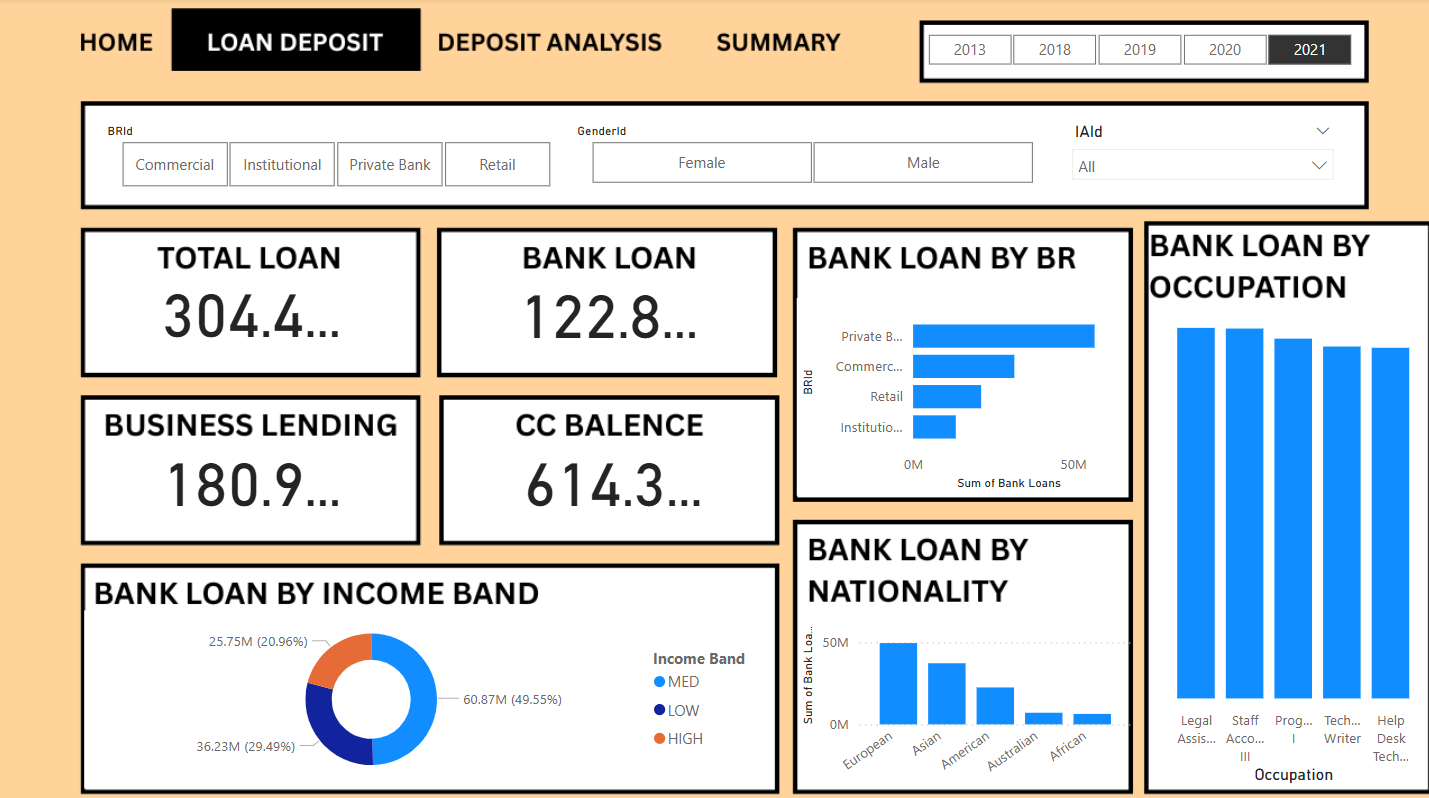

The dashboard page shown, as its layout file describes it:
{"tool":"powerbi","page":{"name":"LOAN DEPOSITE","canvas":[1280,720],"ordinal":1},"visuals":[{"type":"actionButton","box":[50.6,16.1,100,40.2],"z":0},{"type":"actionButton","box":[383.9,16.1,213.8,40.2],"z":1000},{"type":"actionButton","box":[632.2,16.1,128.7,40.2],"z":2000},{"type":"card","fields":{"Values":["Banking_Clients.Total Loan"]},"box":[140.2,224.1,171.3,104.6],"z":3000},{"type":"card","fields":{"Values":["Sum(Banking_Clients.Bank Loans)"]},"box":[455.2,202.3,177,149.4],"z":4000},{"type":"card","fields":{"Values":["Sum(Banking_Clients.Business Lending)"]},"box":[140.2,351.7,171.3,149.4],"z":5000},{"type":"card","fields":{"Values":["Sum(Banking_Clients.Credit Card Balance)"]},"box":[455.2,351.7,185.1,149.4],"z":6000},{"type":"donutChart","fields":{"Category":["Banking_Clients.Income Band"],"Y":["Sum(Banking_Clients.Bank Loans)"]},"box":[77,546,611.5,158.6],"z":7000},{"type":"clusteredBarChart","fields":{"Category":["Banking_Clients.BRId"],"Y":["Sum(Banking_Clients.Bank Loans)"]},"box":[711.5,266.7,292,175.9],"z":8000},{"type":"clusteredColumnChart","fields":{"Y":["Sum(Banking_Clients.Bank Loans)"],"Category":["Banking_Clients.Nationality"]},"box":[711.5,546,303.4,158.6],"z":9000},{"type":"clusteredColumnChart","fields":{"Y":["Sum(Banking_Clients.Bank Loans)"],"Category":["Banking_Clients.Occupation"]},"box":[1023,277,257.5,427.6],"z":10000},{"type":"slicer","fields":{"Values":["Banking_Clients.BRId"]},"box":[85.1,106.9,431,67.8],"z":11000},{"type":"slicer","fields":{"Values":["Banking_Clients.GenderId"]},"box":[503.4,106.9,442.5,64.4],"z":12000},{"type":"slicer","fields":{"Values":["Banking_Clients.IAId"]},"box":[946,105.7,252.9,69],"z":13000},{"type":"slicer","fields":{"Values":["Banking_Clients.Year Of Joining"]},"box":[802.7,26.1,426.8,39.8],"z":14000}]}

Visuals, with their boxes in screenshot pixels (x1, y1, x2, y2), scaled from the page's 1280x720 canvas onto the 1429x798 screenshot:
actionButton: left=56, top=18, right=168, bottom=62
actionButton: left=429, top=18, right=667, bottom=62
actionButton: left=706, top=18, right=849, bottom=62
card - Banking_Clients.Total Loan: left=157, top=248, right=348, bottom=364
card - Sum(Banking_Clients.Bank Loans): left=508, top=224, right=706, bottom=390
card - Sum(Banking_Clients.Business Lending): left=157, top=390, right=348, bottom=555
card - Sum(Banking_Clients.Credit Card Balance): left=508, top=390, right=715, bottom=555
donutChart - Banking_Clients.Income Band x Sum(Banking_Clients.Bank Loans): left=86, top=605, right=769, bottom=781
clusteredBarChart - Banking_Clients.BRId x Sum(Banking_Clients.Bank Loans): left=794, top=296, right=1120, bottom=491
clusteredColumnChart - Sum(Banking_Clients.Bank Loans) x Banking_Clients.Nationality: left=794, top=605, right=1133, bottom=781
clusteredColumnChart - Sum(Banking_Clients.Bank Loans) x Banking_Clients.Occupation: left=1142, top=307, right=1428, bottom=781
slicer - Banking_Clients.BRId: left=95, top=118, right=576, bottom=194
slicer - Banking_Clients.GenderId: left=562, top=118, right=1056, bottom=190
slicer - Banking_Clients.IAId: left=1056, top=117, right=1338, bottom=194
slicer - Banking_Clients.Year Of Joining: left=896, top=29, right=1373, bottom=73
